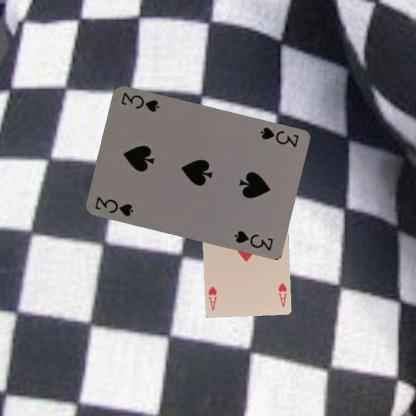3s: (257, 124, 300, 148), (92, 194, 134, 218)
Ah: (274, 280, 288, 308)
